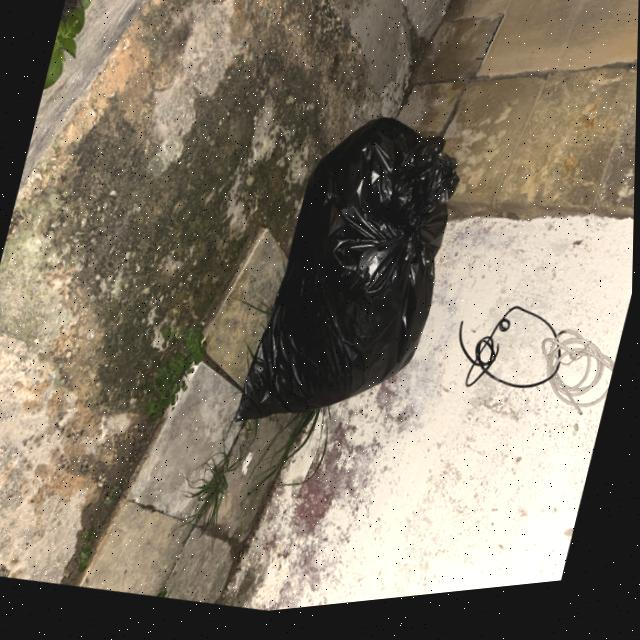Mixed Waste -Black Bag-: (234, 99, 478, 464)
